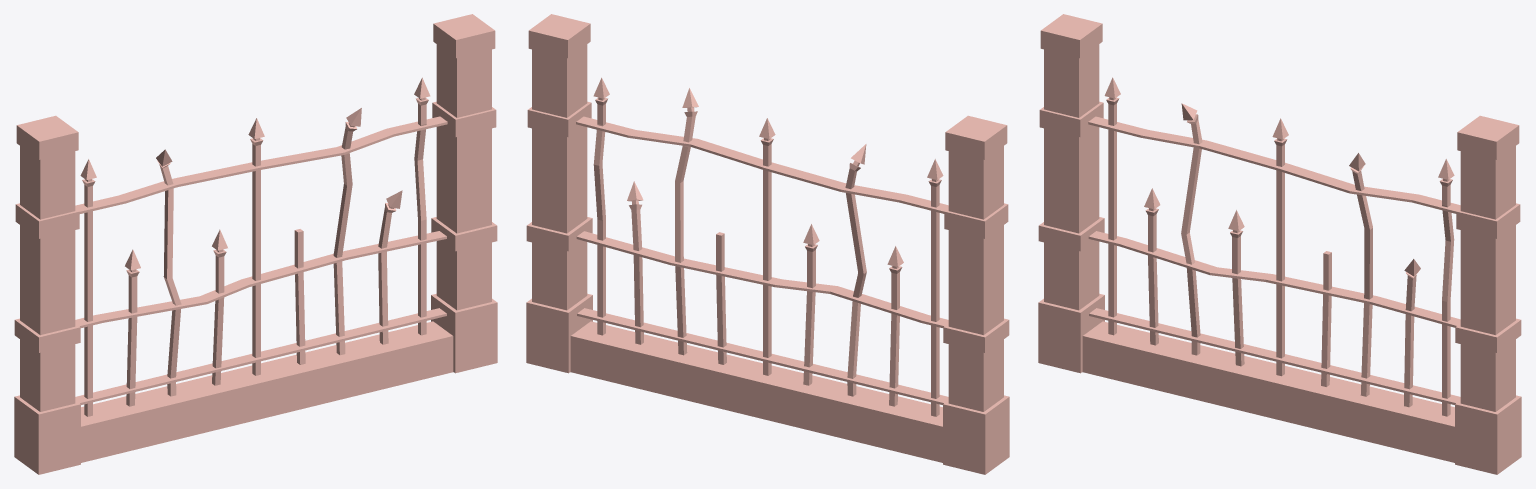
The model's file is Mega_Asset_s_Pack_Cube_016.FBX.
The picture shows the model from 3 angles, left to right: view 1: azimuth 30°, elevation 25°; view 2: azimuth 150°, elevation 25°; view 3: azimuth 330°, elevation 25°; orthographic projection.
Visible parts, largest first — view 1: Mega_Asset_s_Pack_Cube_016; view 2: Mega_Asset_s_Pack_Cube_016; view 3: Mega_Asset_s_Pack_Cube_016.
Part boxes in pixels (<box>): Mega_Asset_s_Pack_Cube_016: <box>14,14,497,474</box>; Mega_Asset_s_Pack_Cube_016: <box>526,14,1009,474</box>; Mega_Asset_s_Pack_Cube_016: <box>1038,14,1521,474</box>.
Size of what is drawn, in the model's own units: 440 by 42.95 by 305.
